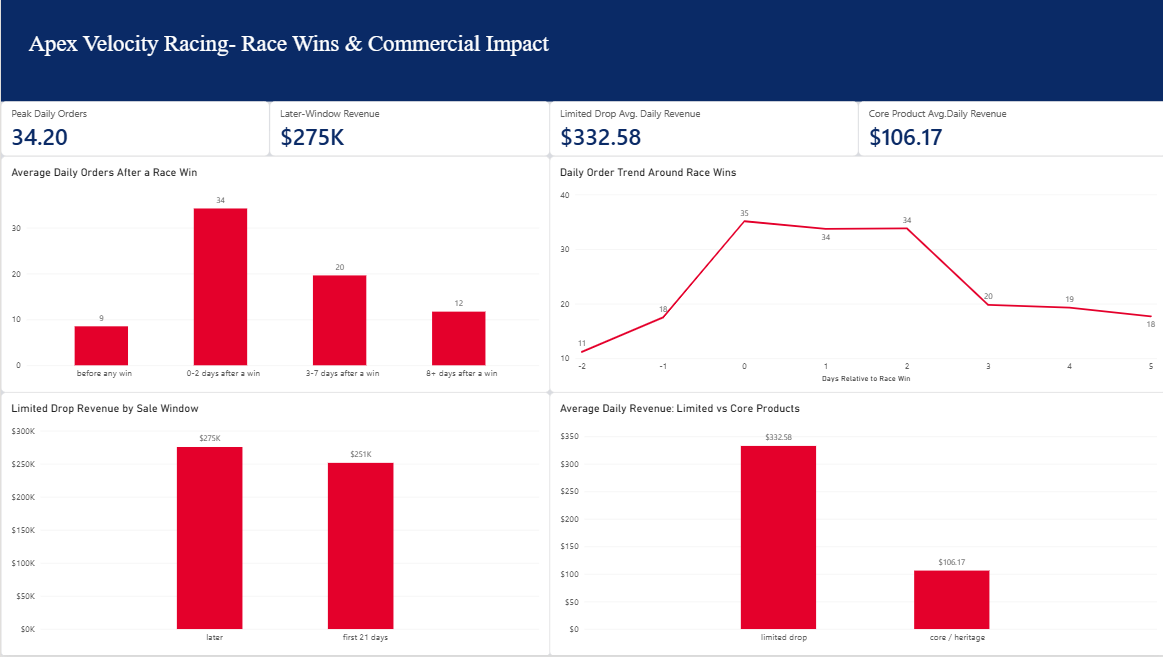

What the dashboard file says about the page in this screenshot:
{"tool":"powerbi","page":{"name":"Race Wins & Commercial Impact","canvas":[1920,1080],"ordinal":2},"visuals":[{"type":"shape","box":[0,0,1920.4,167.3],"z":0},{"type":"textbox","box":[44.5,49.8,1315.2,117.5],"z":1000},{"type":"cardVisual","fields":{"Data":["Max(Q6_merch_sales_after_wins_results_PARTA.avg_orders_per_day)"]},"box":[0,166.7,442.5,90.6],"z":2000},{"type":"cardVisual","fields":{"Data":["Sum(Q7_limited_drop_lifecycle_results_PARTA.net_revenue)"]},"box":[442.5,166.7,461.1,90.6],"z":3000},{"type":"cardVisual","fields":{"Data":["Max(Q7_limited_drop_lifecycle_results_PARTB.avg_revenue_per_product_per_day)"]},"box":[903.6,166.7,508.4,90.6],"z":4000},{"type":"cardVisual","fields":{"Data":["Max(Q7_limited_drop_lifecycle_results_PARTB.avg_revenue_per_product_per_day)"]},"box":[1412,166.7,508.4,90.6],"z":5000},{"type":"clusteredColumnChart","title":"Average Daily Orders After a Race Win","fields":{"Category":["Q6_merch_sales_after_wins_results_PARTA.window_bucket"],"Y":["Sum(Q6_merch_sales_after_wins_results_PARTA.avg_orders_per_day)"]},"box":[0,257.3,903.6,389],"z":6000},{"type":"lineChart","title":"Daily Order Trend Around Race Wins","fields":{"Category":["Q6_merch_sales_after_wins_results_PARTB.days_from_win"],"Y":["Sum(Q6_merch_sales_after_wins_results_PARTB.avg_orders_per_day)"]},"box":[903.6,257.3,1016.8,389],"z":7000},{"type":"clusteredColumnChart","title":"Limited Drop Revenue by Sale Window","fields":{"Category":["Q7_limited_drop_lifecycle_results_PARTA.sale_window"],"Y":["Sum(Q7_limited_drop_lifecycle_results_PARTA.net_revenue)"]},"box":[0,646.3,903.6,434.3],"z":8000},{"type":"clusteredColumnChart","title":"Average Daily Revenue: Limited vs Core Products","fields":{"Category":["Q7_limited_drop_lifecycle_results_PARTB.product_type"],"Y":["Sum(Q7_limited_drop_lifecycle_results_PARTB.avg_revenue_per_product_per_day)"]},"box":[903.6,646.3,1016.8,434.3],"z":9000}]}

Visuals, with their boxes in screenshot pixels (x1, y1, x2, y2), scaled from the page's 1920x1080 canvas onto the 1163x657 screenshot:
shape: <bbox>0, 0, 1162, 102</bbox>
textbox: <bbox>27, 30, 824, 102</bbox>
cardVisual - Max(Q6_merch_sales_after_wins_results_PARTA.avg_orders_per_day): <bbox>0, 101, 268, 157</bbox>
cardVisual - Sum(Q7_limited_drop_lifecycle_results_PARTA.net_revenue): <bbox>268, 101, 547, 157</bbox>
cardVisual - Max(Q7_limited_drop_lifecycle_results_PARTB.avg_revenue_per_product_per_day): <bbox>547, 101, 855, 157</bbox>
cardVisual - Max(Q7_limited_drop_lifecycle_results_PARTB.avg_revenue_per_product_per_day): <bbox>855, 101, 1162, 157</bbox>
"Average Daily Orders After a Race Win" clusteredColumnChart: <bbox>0, 157, 547, 393</bbox>
"Daily Order Trend Around Race Wins" lineChart: <bbox>547, 157, 1162, 393</bbox>
"Limited Drop Revenue by Sale Window" clusteredColumnChart: <bbox>0, 393, 547, 656</bbox>
"Average Daily Revenue: Limited vs Core Products" clusteredColumnChart: <bbox>547, 393, 1162, 656</bbox>
